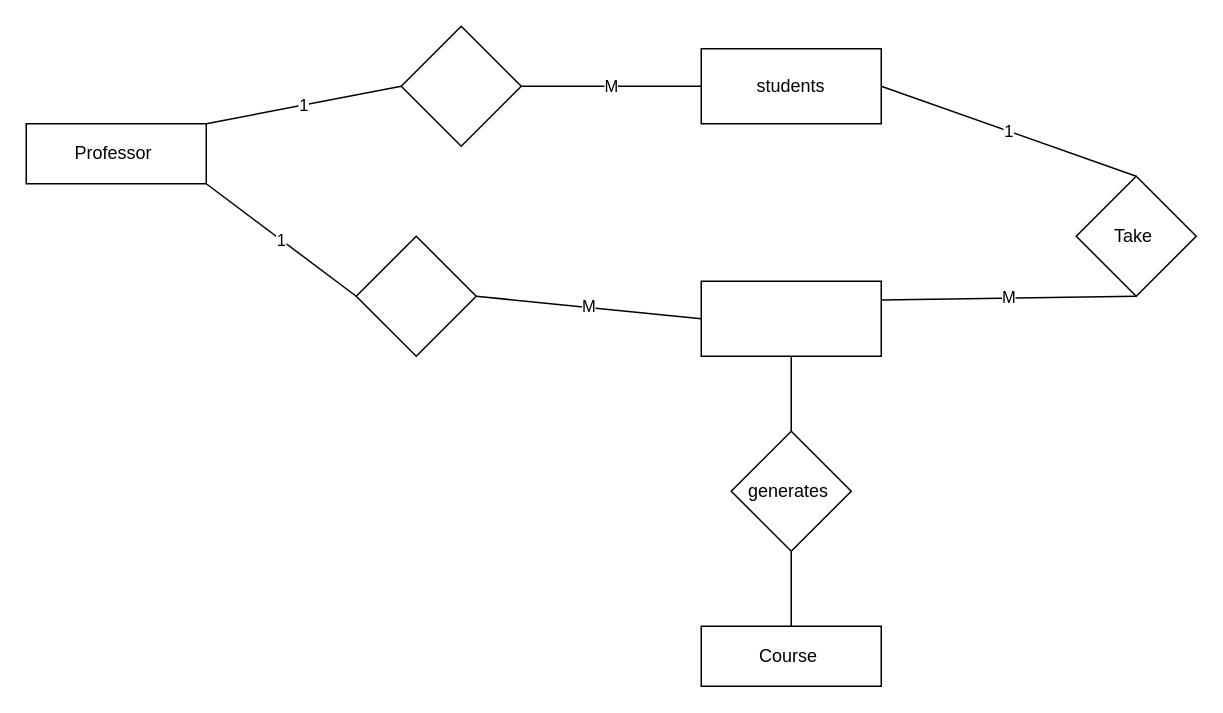
The diagram is 1223 pixels wide and 713 high, and some of its shapes have lost their labels. The centre of each missing label's shape, as x and y in pixels:
adivce: the point at 460,85
Class: the point at 790,318
teaches: the point at 415,295
